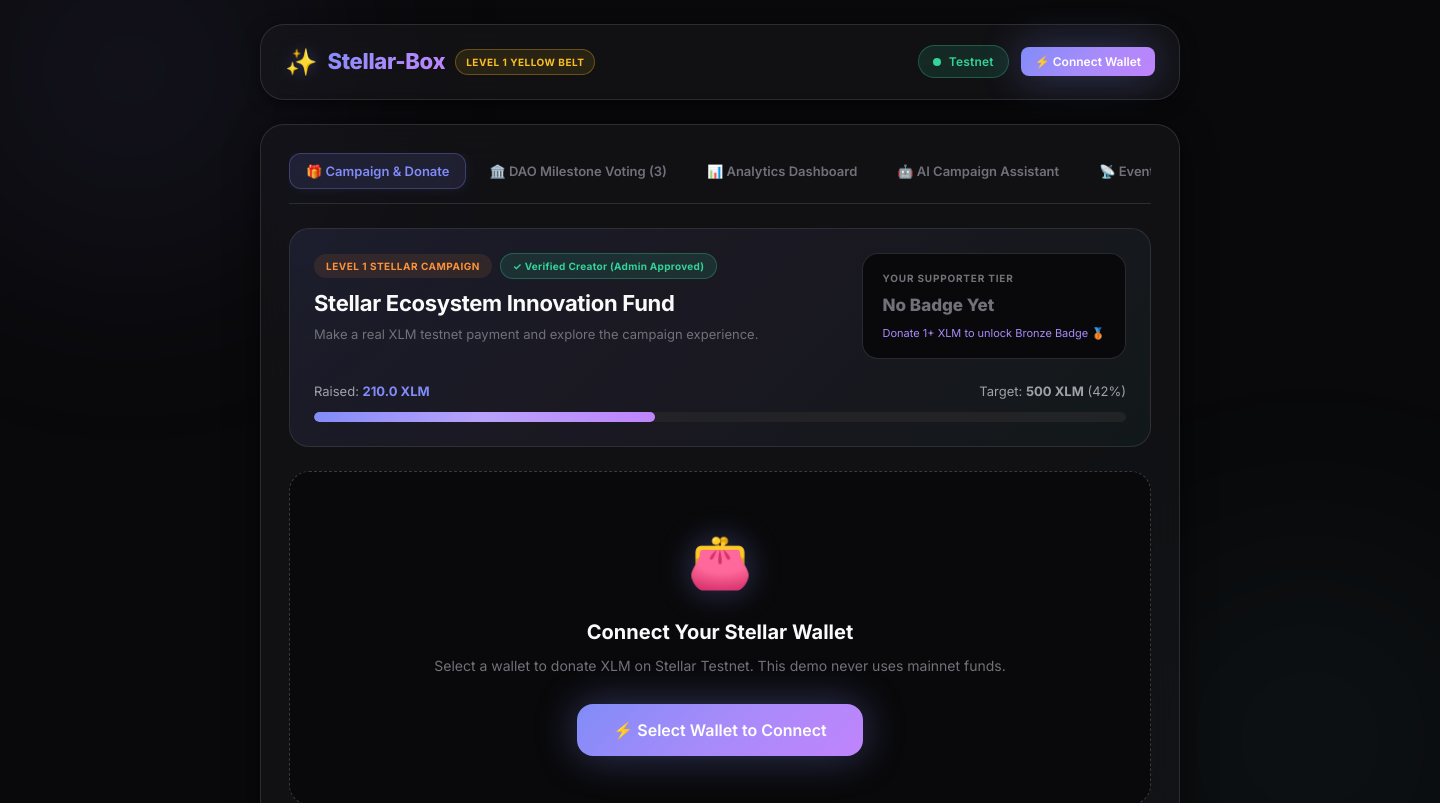
Test: Stellar-Box App Tests › switches to DAO Milestone Voting tab
Click the button "🏛️ DAO Milestone Voting (3)" at (578, 171), box [472,153,684,189]
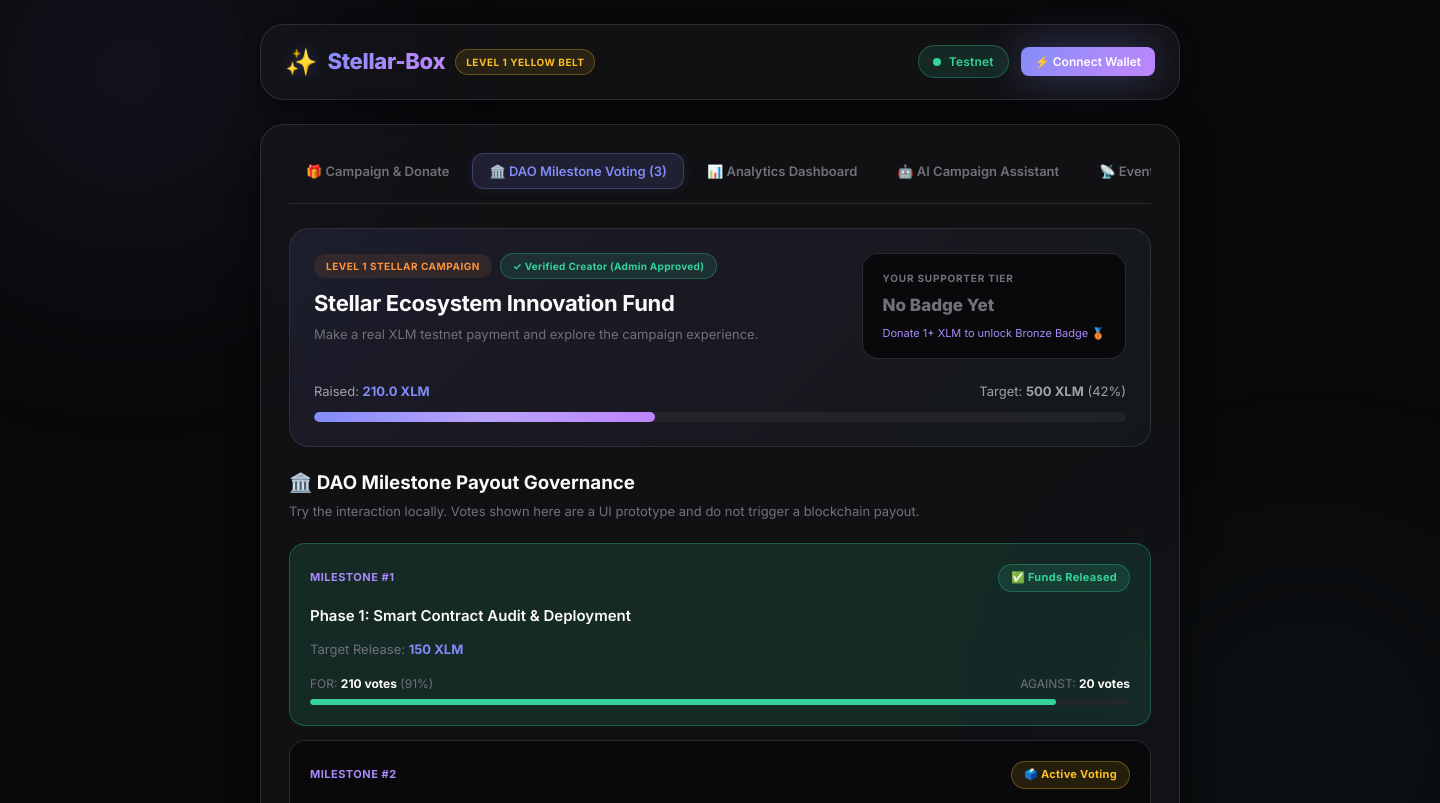
Now the heading "🏛️ DAO Milestone Payout Governance" is shown, box [289,471,635,494]
